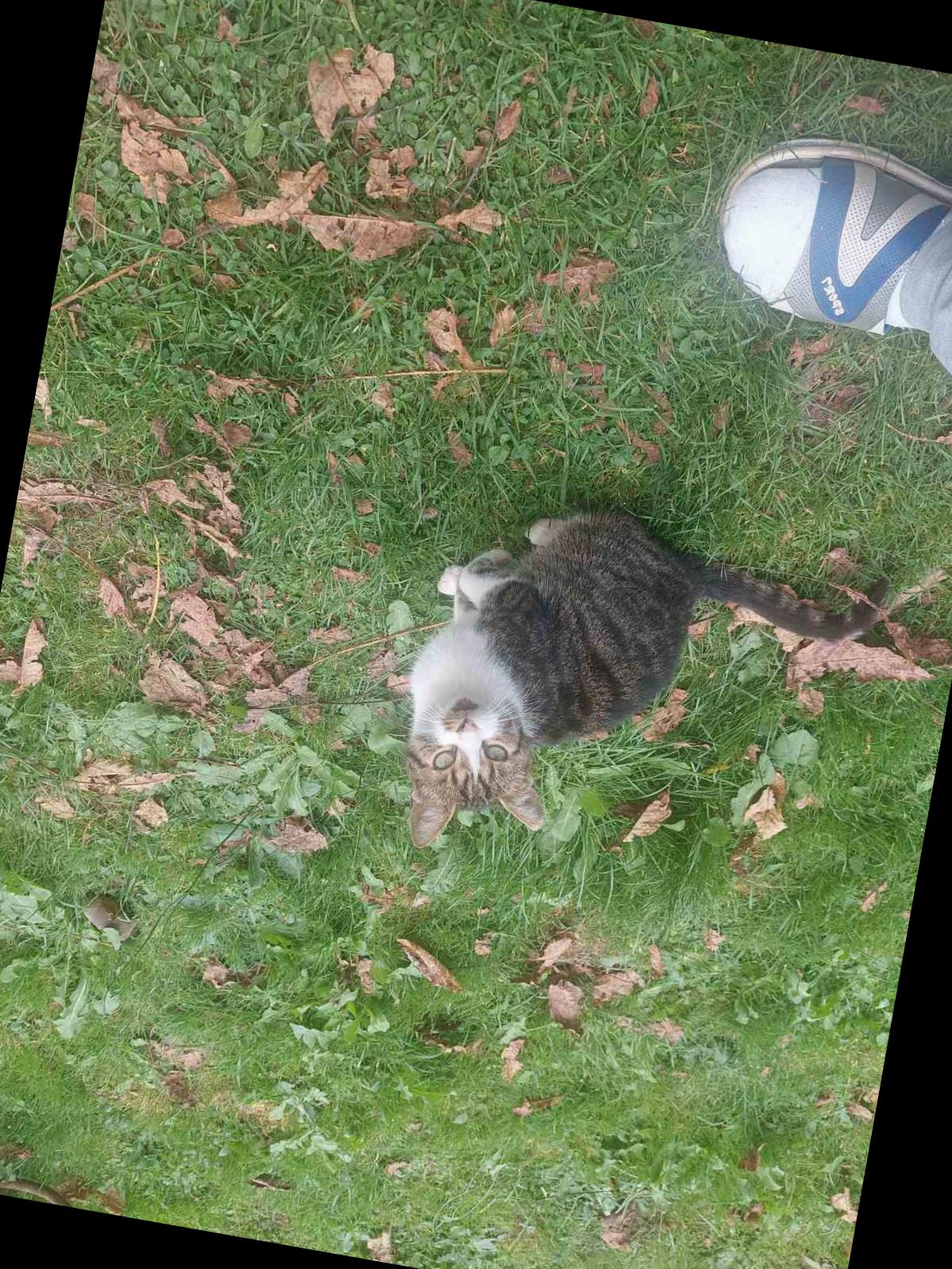macka: (379, 474, 895, 920)
